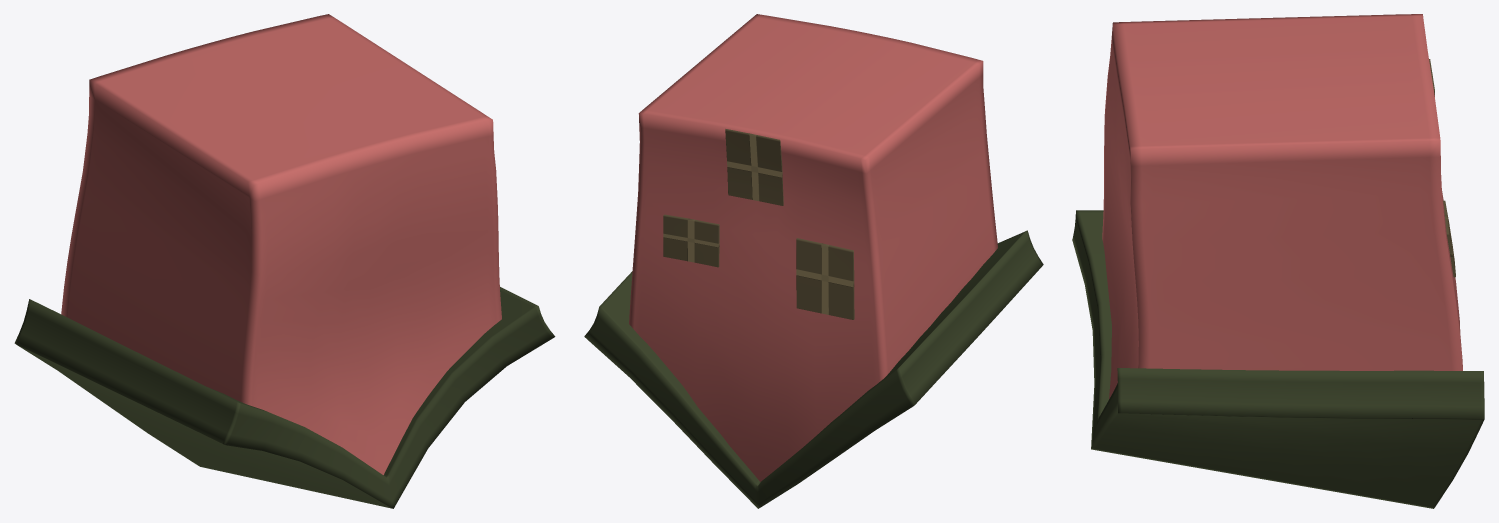
File: house1.fbx
The picture shows the model from 3 angles, left to right: view 1: azimuth 30°, elevation 25°; view 2: azimuth 150°, elevation 25°; view 3: azimuth 270°, elevation 25°; orthographic projection. The views are drawn at different scales.
Parts seen in each view (by area): view 1: house.000; view 2: house.000; view 3: house.000.
Part boxes in pixels (left/top/right/bottom): house.000: left=14, top=14, right=555, bottom=508; house.000: left=584, top=14, right=1043, bottom=508; house.000: left=1072, top=14, right=1484, bottom=508.
Bounding box in the file's own units: 169 × 177 × 150.
